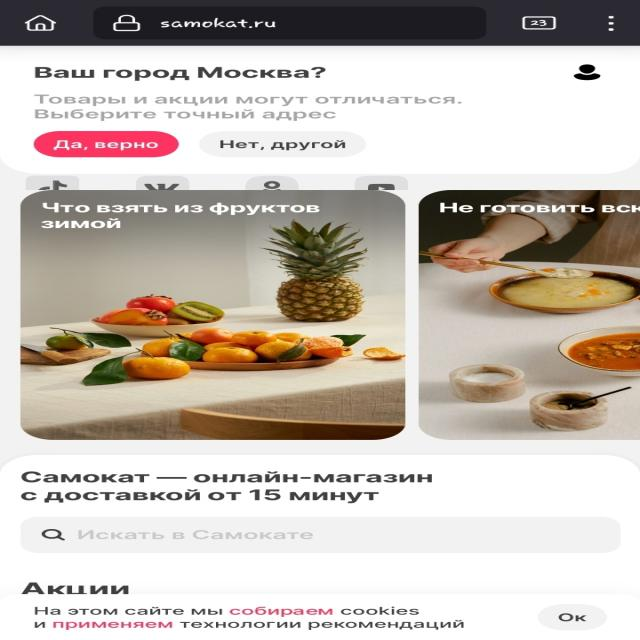button: (199, 132, 368, 157), (32, 130, 181, 158), (539, 605, 608, 630)
site: (1, 46, 640, 174), (1, 597, 640, 640)
